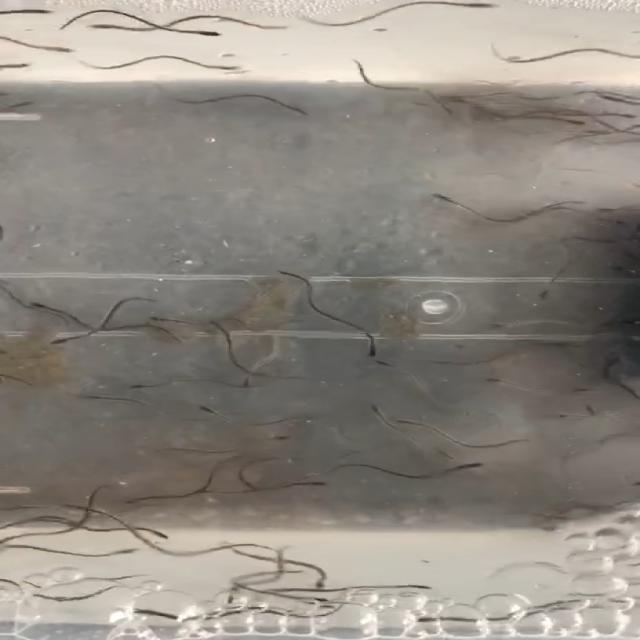active_glass_eel: (112, 604, 174, 626), (30, 40, 83, 60), (172, 24, 224, 43), (244, 587, 284, 607), (140, 312, 184, 330), (1, 100, 36, 122), (256, 429, 296, 448), (296, 473, 336, 492), (202, 62, 249, 78), (361, 400, 398, 420), (283, 102, 322, 120), (436, 88, 482, 103), (386, 413, 424, 431), (304, 570, 332, 594), (444, 0, 495, 13), (590, 88, 629, 105), (235, 370, 268, 390), (357, 340, 388, 361), (196, 401, 232, 419), (136, 523, 172, 541), (547, 409, 593, 423), (568, 382, 608, 398), (83, 19, 131, 32), (543, 334, 582, 350), (479, 371, 511, 390), (596, 349, 626, 369), (120, 377, 156, 393), (458, 458, 494, 474), (8, 5, 60, 16), (593, 109, 637, 122), (426, 188, 459, 205), (305, 596, 340, 612), (397, 612, 436, 626), (217, 586, 244, 606), (110, 547, 143, 563), (531, 286, 557, 306), (22, 300, 59, 314), (425, 103, 458, 118), (48, 333, 84, 345), (550, 118, 592, 128), (484, 321, 519, 333), (126, 490, 148, 509), (0, 58, 34, 69), (596, 205, 634, 212), (0, 88, 18, 102)
